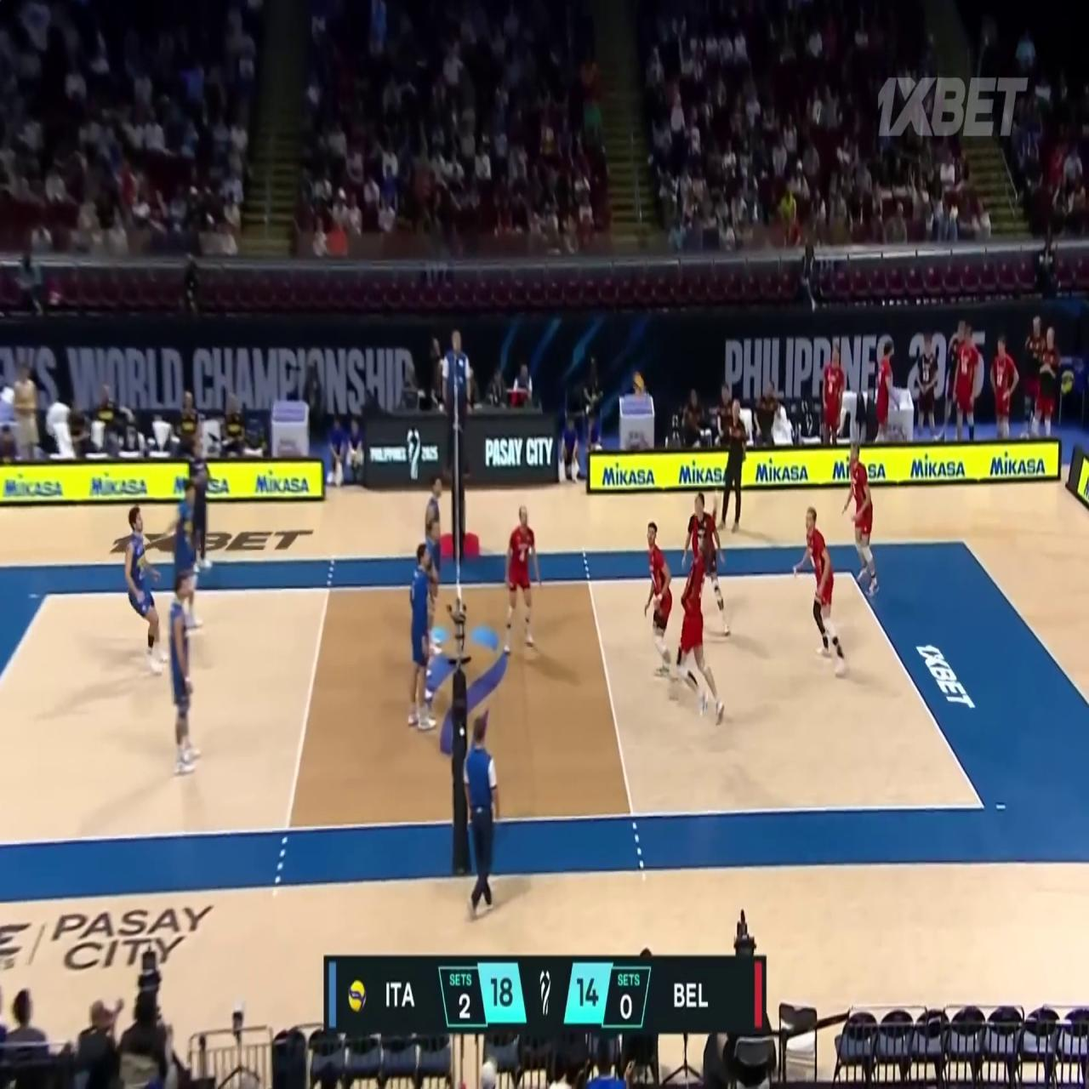ball: (633, 373, 644, 394)
